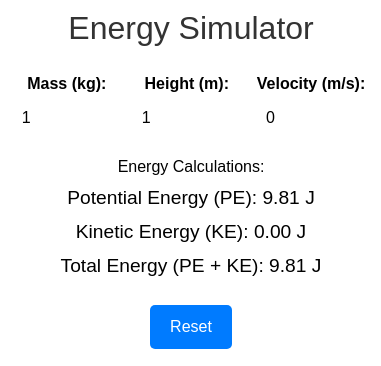
Test: Energy Simulator - App Component › resets all inputs to default values when reset button is clicked
Replace the text in the number field labelled "Mass (kg):" with "5": {"x": 67, "y": 118} [17,101,117,135]
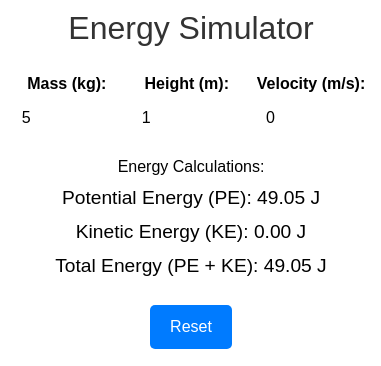
Replace the text in the number field labelled "Height (m):" with "10": {"x": 187, "y": 118} [137,101,237,135]
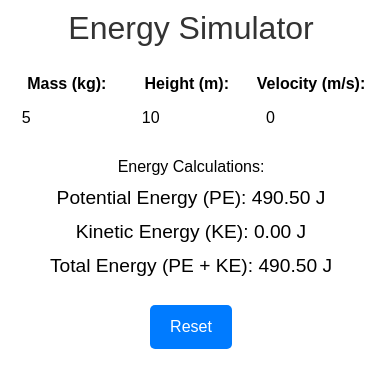
Replace the text in the number field labelled "Velocity (m/s):" with "3": {"x": 311, "y": 118} [261,101,361,135]
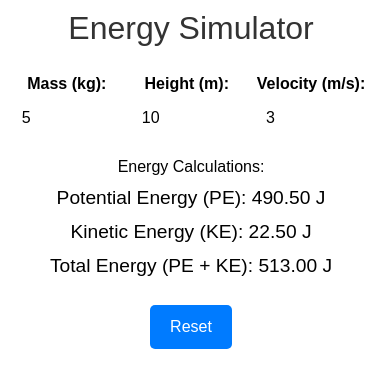
Click the button "Reset": {"x": 191, "y": 327} [150,305,232,349]
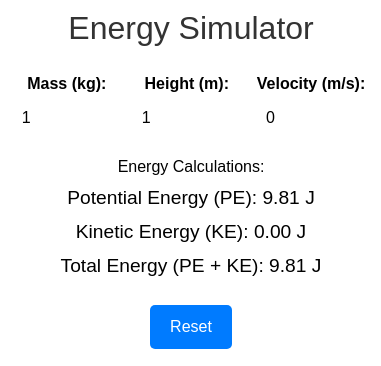
Result: the number field labelled "Mass (kg):" holds "1" at [17,101,117,135]
Result: the number field labelled "Height (m):" holds "1" at [137,101,237,135]
Result: the number field labelled "Velocity (m/s):" holds "0" at [261,101,361,135]
